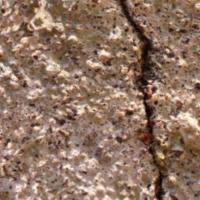crack: (119, 2, 174, 199)
